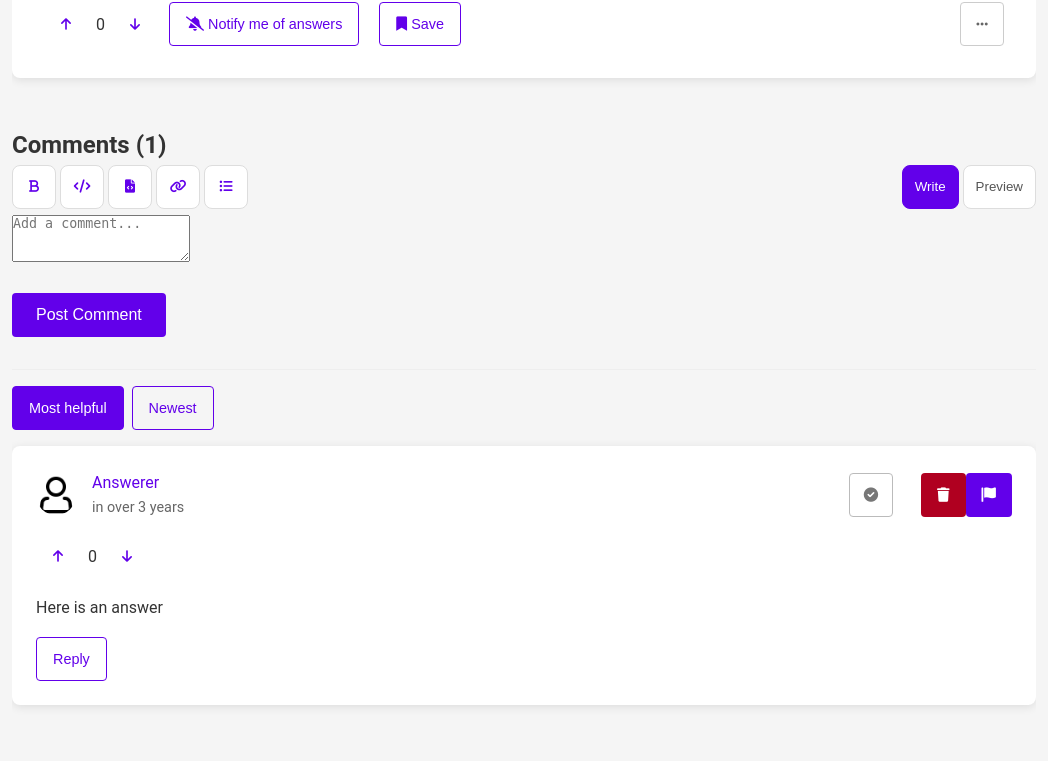
Test case: PostDetail reply draft autosave › restores a saved reply draft on reopening that comment’s reply form
The image size is (1048, 761).
(page scrolled)
Expected: the text "Here is an answer" is shown, [36,598,163,617]
Click the button "Reply" at coordinates (71, 659), box [36,637,107,681]
(page scrolled)
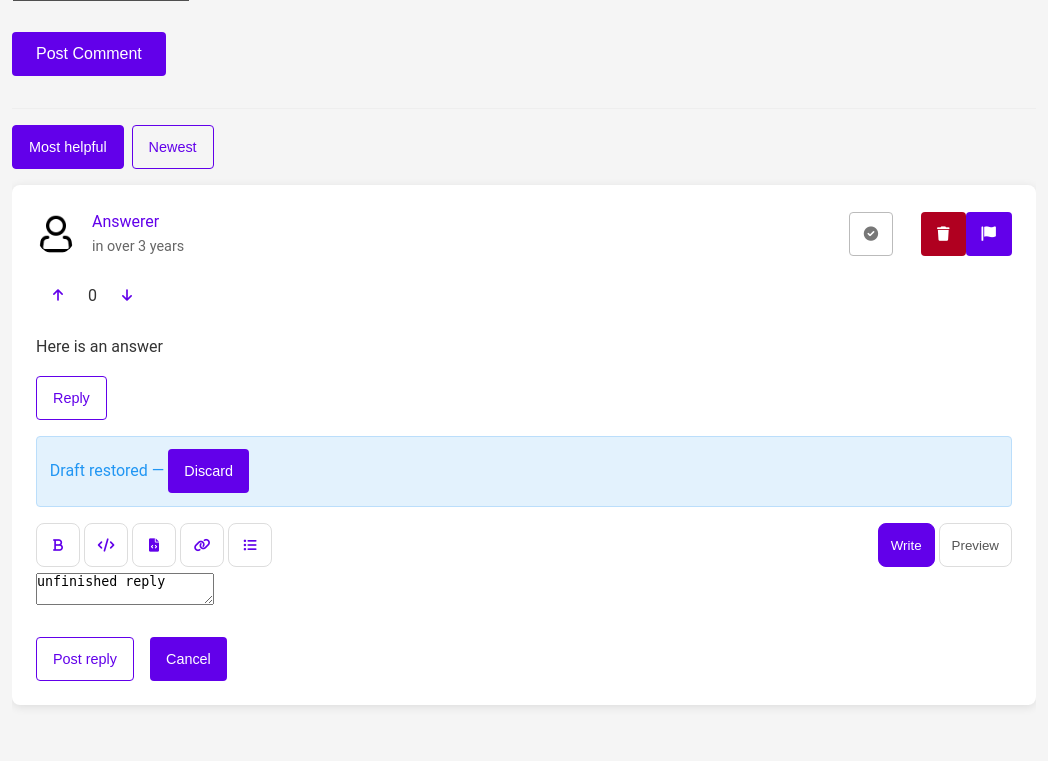
Expected: the text box with placeholder "Write a reply..." holds "unfinished reply", [36,573,214,605]
Expected: the text "Draft restored — Discard" is shown, [36,436,1012,507]
